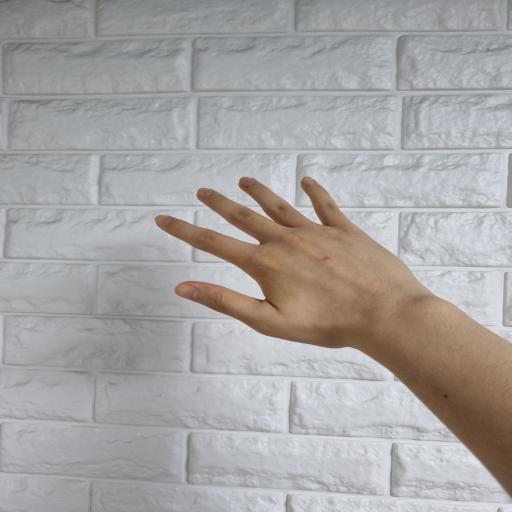Paper: (152, 177, 504, 496)
